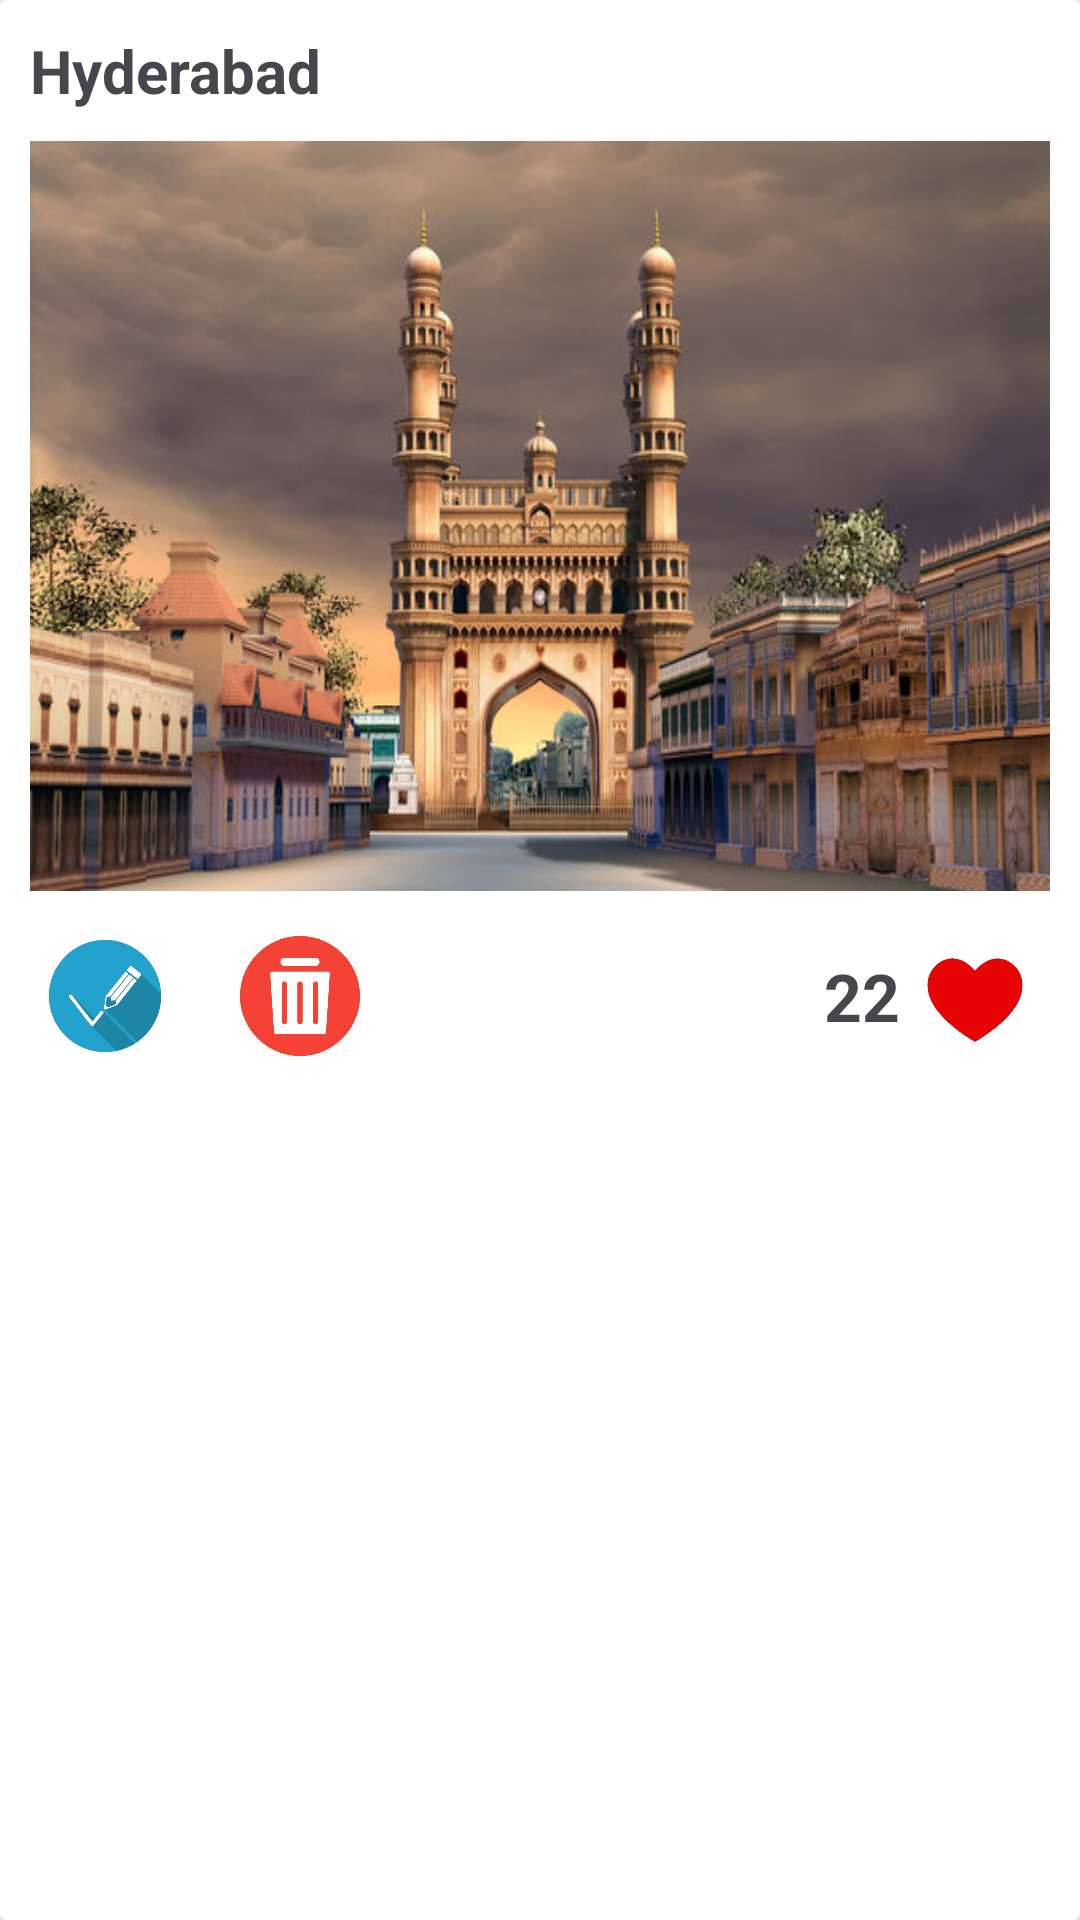

Where icons sit on this 1080w x 1920h app screen, as (left=x1, top=y1, right=x2, bottom=y2):
delete: (left=240, top=936, right=360, bottom=1056)
like: (left=927, top=958, right=1023, bottom=1042)
